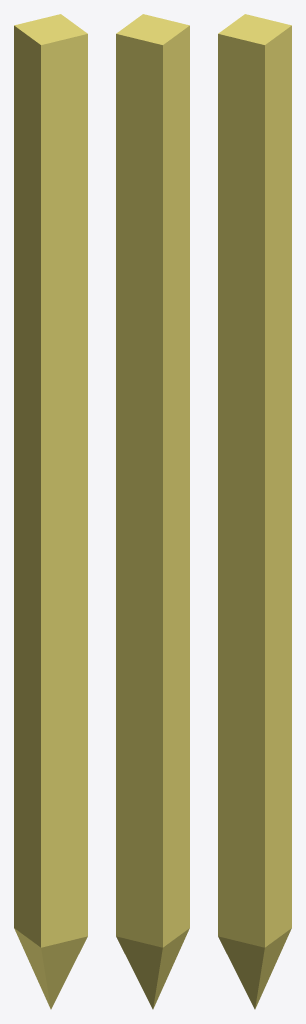
Rendered from hazard_stake_yellow_01.glb.
3 views of the same model, side by side, from view 1: azimuth 30°, elevation 25°; view 2: azimuth 150°, elevation 25°; view 3: azimuth 330°, elevation 25° (orthographic).
Parts seen in each view (by area): view 1: Hazard_stake_yellow_01; view 2: Hazard_stake_yellow_01; view 3: Hazard_stake_yellow_01.
Boxes of the visible parts, x1=… form: Hazard_stake_yellow_01: x1=14, y1=14, x2=87, y2=1009; Hazard_stake_yellow_01: x1=116, y1=14, x2=189, y2=1009; Hazard_stake_yellow_01: x1=218, y1=14, x2=291, y2=1009.
Size of the model in its own units: 0.05 by 1 by 0.05.
